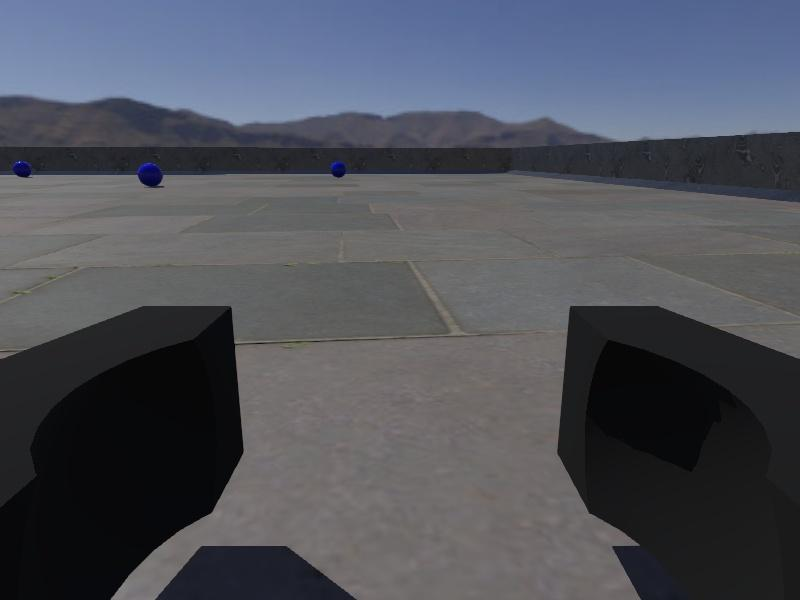blue ball: (137, 162, 163, 188), (328, 160, 348, 179), (13, 160, 33, 178)
